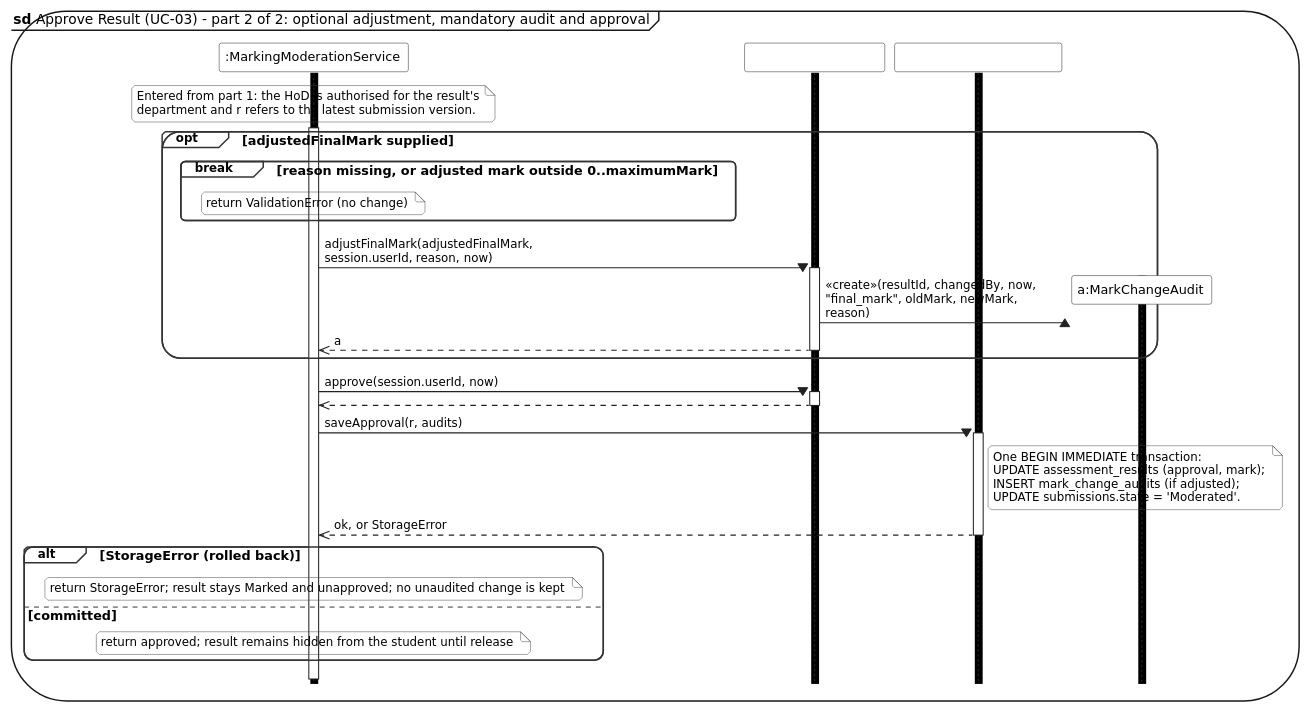
Some shapes in this 1311 by 713 pixel diagram are drawn without their labels. Here are the shapes that lost their labels. From the top down, the centre of each, then its label:
pixel 814 57: r:AssessmentResult
pixel 978 57: :IAssessmentRepository
